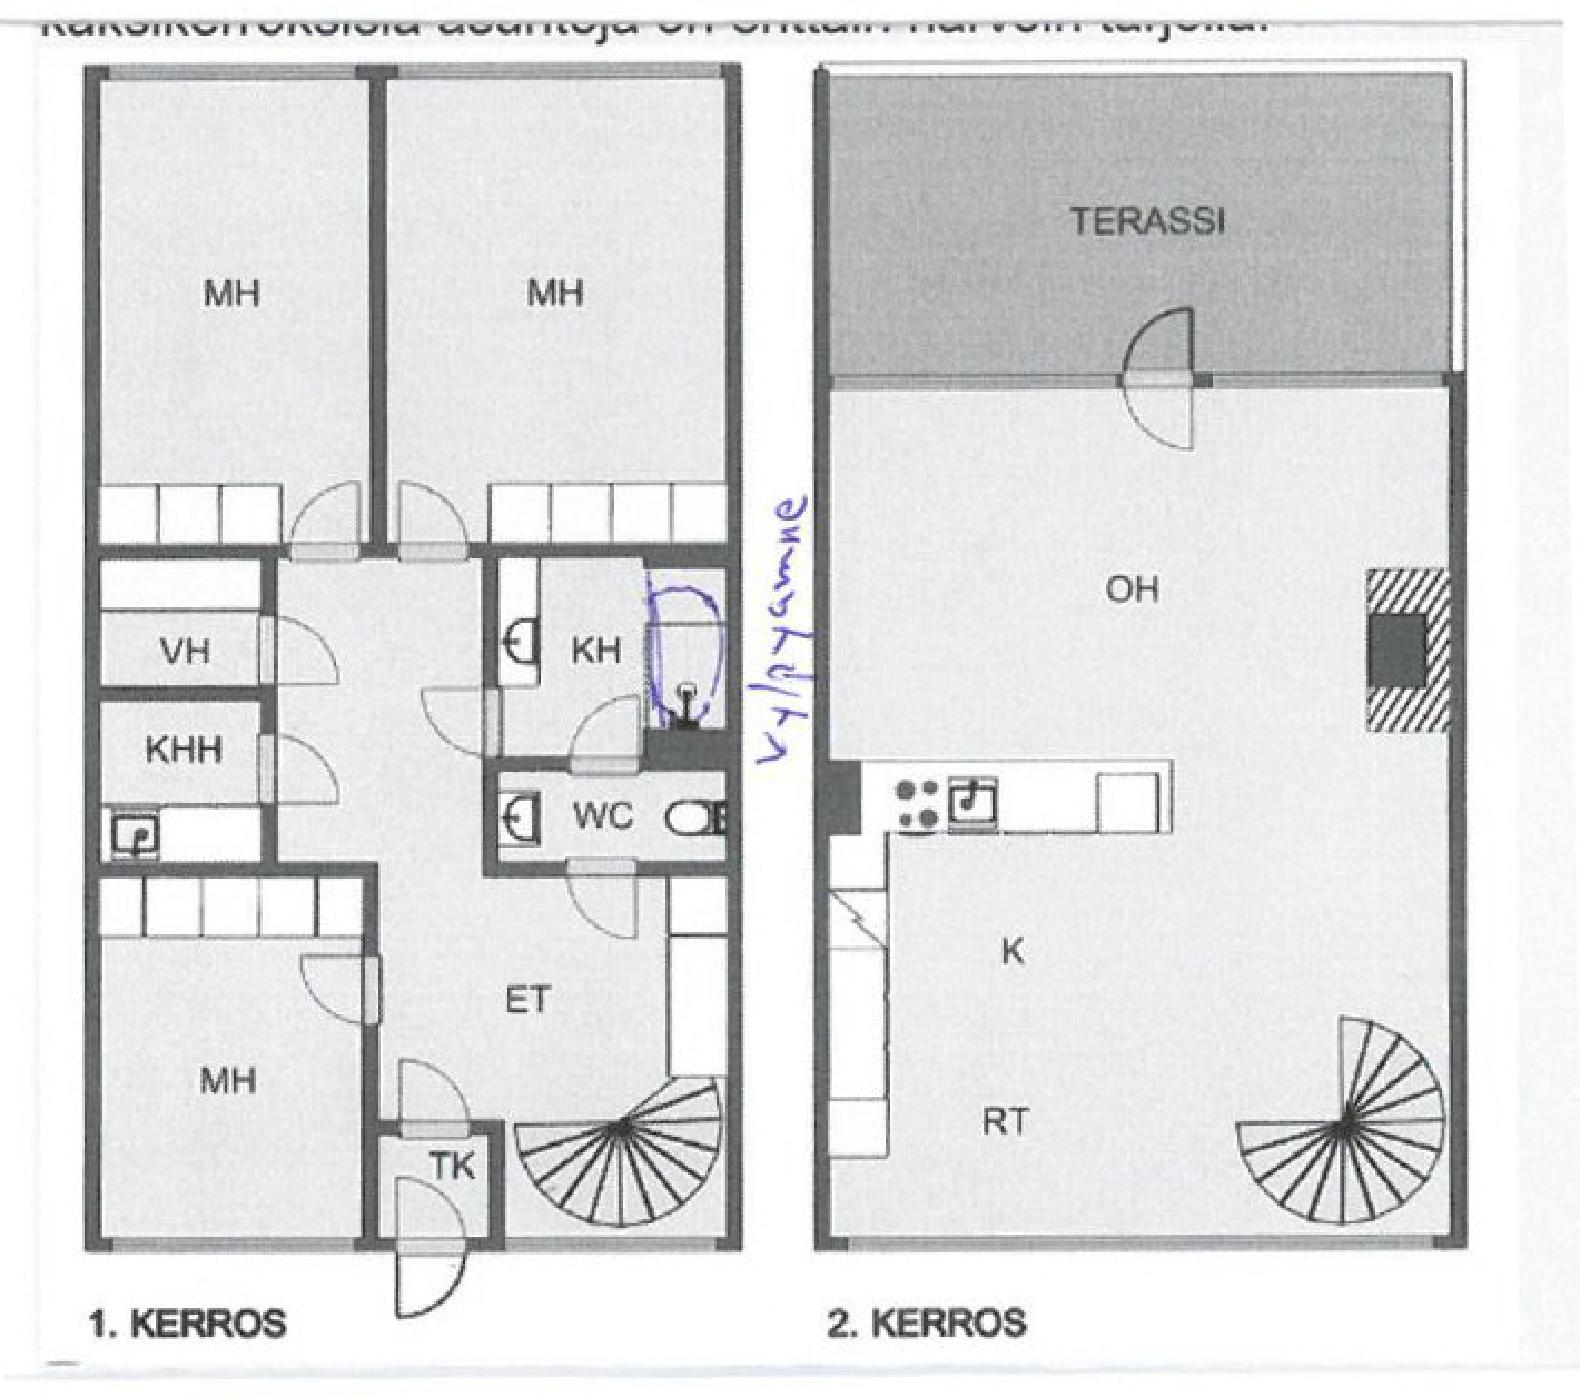door: (388, 1176, 475, 1324), (1119, 311, 1197, 469), (251, 735, 349, 819), (561, 680, 646, 775), (413, 682, 510, 759), (284, 477, 368, 566), (297, 951, 390, 1028), (259, 608, 342, 693), (564, 858, 643, 947), (394, 477, 468, 566), (396, 1060, 477, 1141)
window: (845, 1230, 1433, 1250), (503, 1234, 717, 1259), (109, 1235, 349, 1257), (112, 62, 355, 82), (394, 63, 719, 76)
zone: (833, 388, 1448, 1234), (276, 560, 725, 1237), (829, 73, 1448, 369), (384, 73, 729, 543), (101, 80, 369, 539), (101, 876, 369, 1243), (493, 554, 716, 862), (100, 704, 259, 860), (101, 556, 259, 689)
